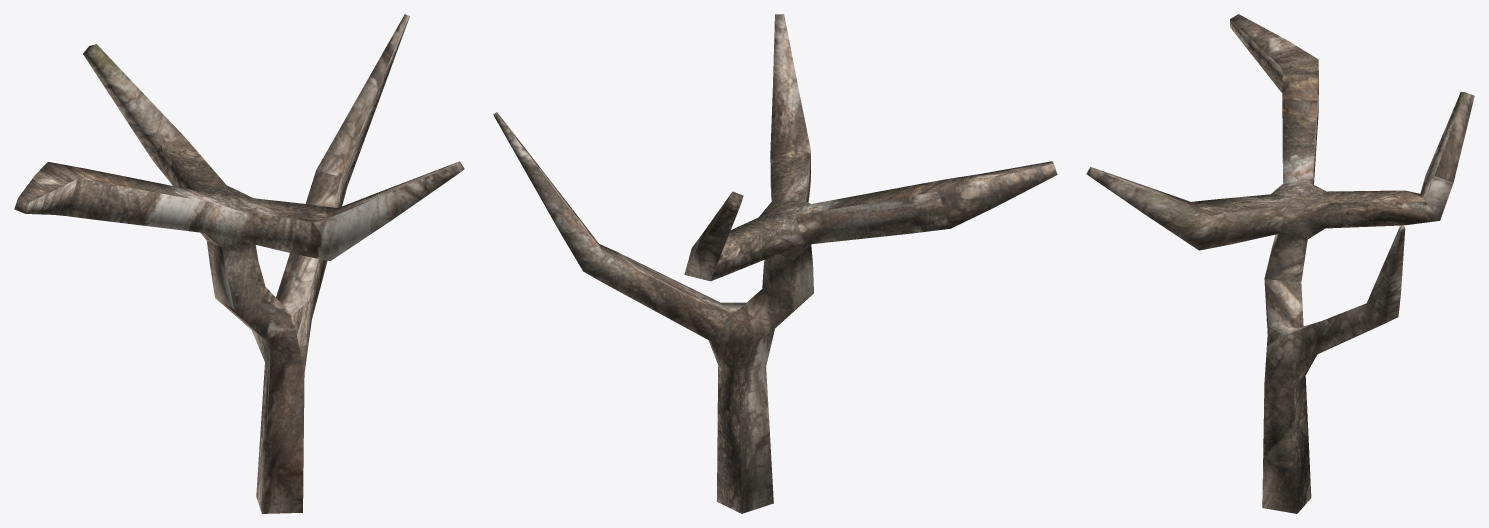
The model's file is DryPlainTree1.fbx.
3 renders of one model, left to right at view 1: azimuth 30°, elevation 25°; view 2: azimuth 150°, elevation 25°; view 3: azimuth 270°, elevation 25°, orthographic. The views are drawn at different scales.
Parts seen in each view (by area): view 1: DryPlainTree1; view 2: DryPlainTree1; view 3: DryPlainTree1.
Part boxes in pixels (x1,y1,x2,y2): DryPlainTree1: (14, 14, 464, 513); DryPlainTree1: (493, 14, 1057, 513); DryPlainTree1: (1086, 14, 1474, 513).
Size of the model in its own units: 3.6 by 2.9 by 2.74.
